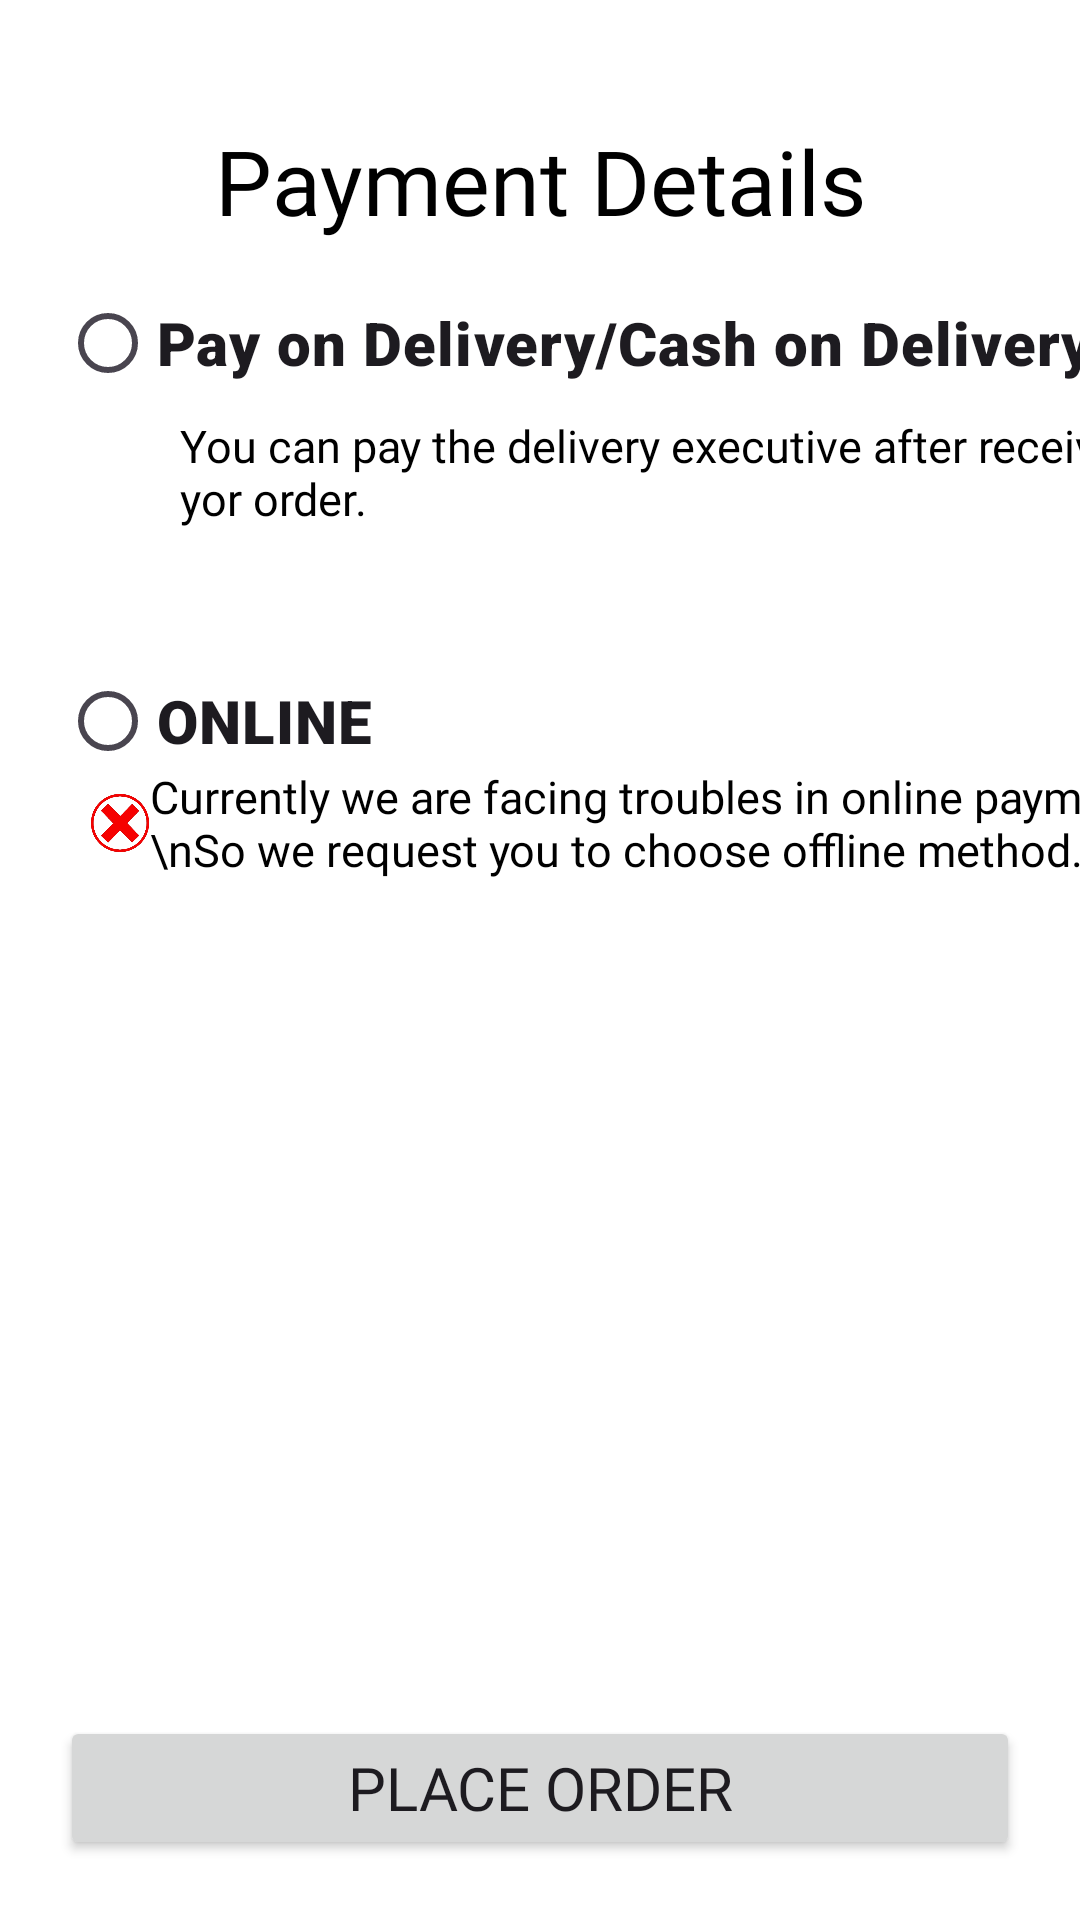

Icons on this 1080x1920 Android screen, each with its box as (left=x1, top=y1, right=x2, bottom=y2):
failed: (left=91, top=794, right=149, bottom=852)
